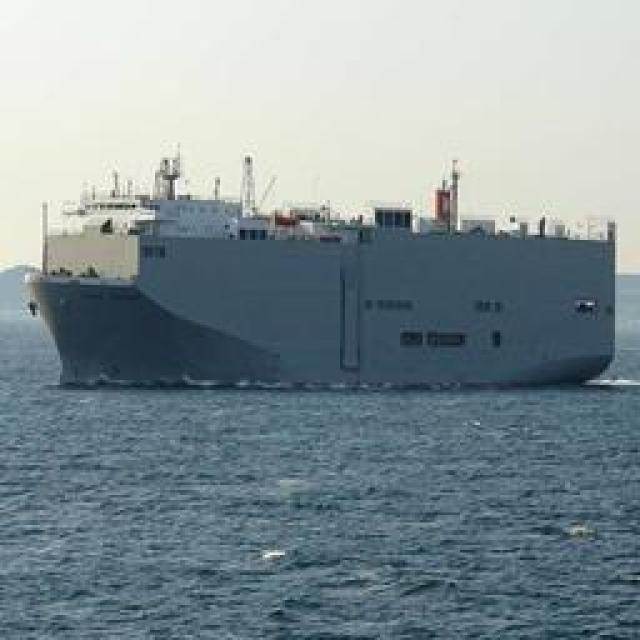CIV_Ship: (28, 181, 622, 399)
